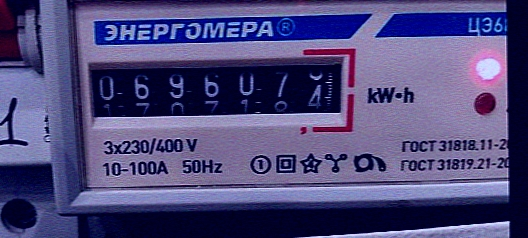0: (95, 73, 115, 103), (236, 68, 255, 98)
4: (303, 83, 322, 111)
6: (129, 72, 151, 102), (201, 71, 220, 99)
7: (271, 69, 288, 99)
9: (166, 72, 184, 101)
screen: (70, 43, 357, 137)
